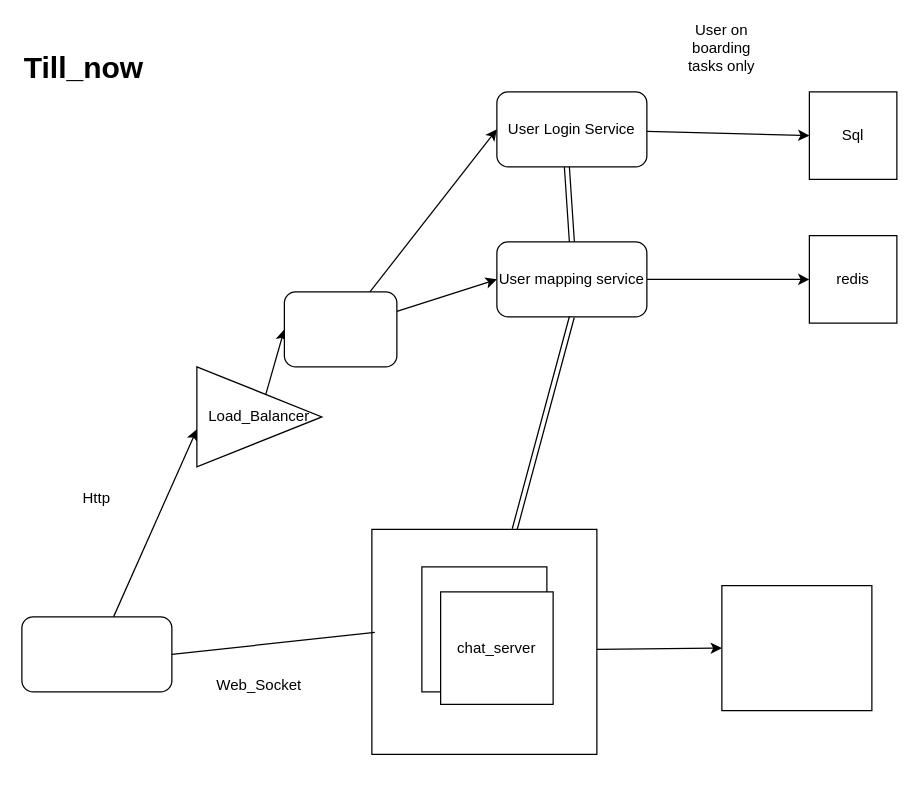
Image size: 919x798. Some labels were removed from this diagram. The box of each missing label's shape, as (x1, y1, x2, y2) in pixels:
API_gateway: (283, 291, 397, 367)
Client: (21, 616, 172, 692)
NO SQL: (721, 584, 872, 711)
